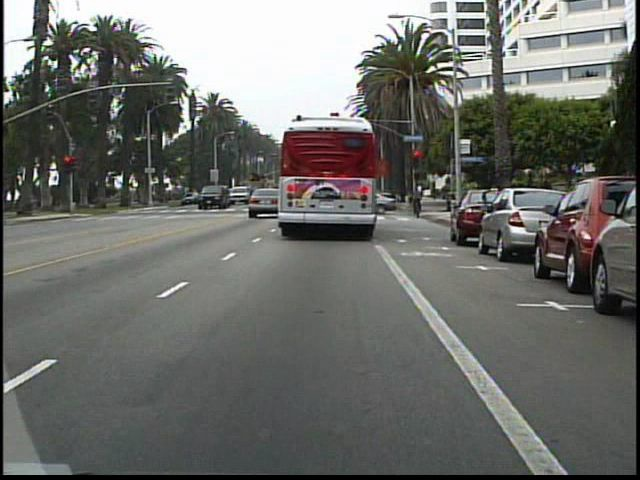person: (405, 182, 425, 216)
